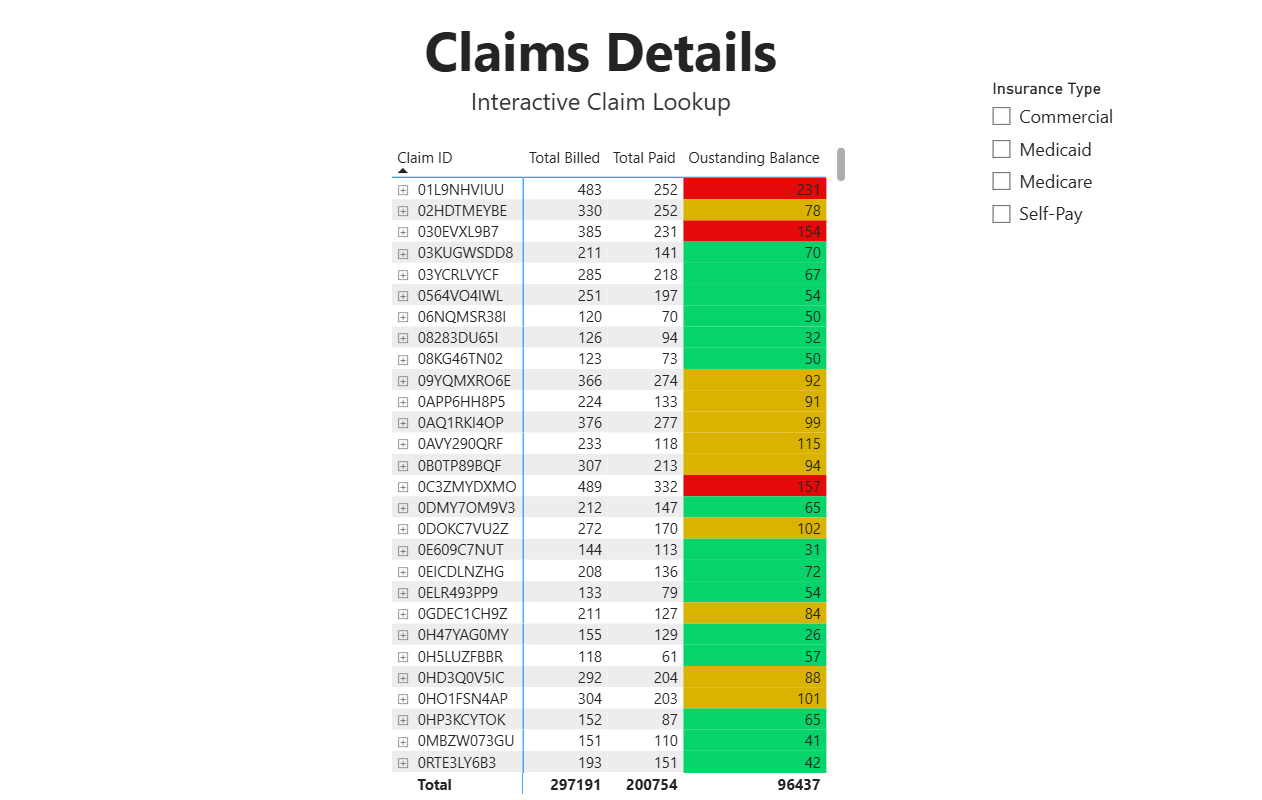

This screenshot's page, from the dashboard's own definition file:
{"tool":"powerbi","page":{"name":"Claims Details","canvas":[1280,720],"ordinal":1},"visuals":[{"type":"pivotTable","fields":{"Rows":["claim_data.Claim ID","claim_data.Insurance Type","claim_data.Claim Status"],"Values":["claim_data.Total Billed","claim_data.Total Paid","claim_data.Oustanding Balance"]},"box":[448.8,129.7,417.3,589.8],"z":0},{"type":"slicer","fields":{"Values":["claim_data.Insurance Type"]},"box":[978.9,69.9,207.5,163.5],"z":1000},{"type":"actionButton","box":[0,0,100,40],"z":2000},{"type":"textbox","box":[433.1,10.1,415,119.5],"z":3000}]}

Visuals, with their boxes on the page's 1280x720 design canvas (x1, y1, x2, y2). These are canvas units, not pixel positions in the 1262x800 screenshot, which may show the page scaled, cropped or inside an application window:
pivotTable - claim_data.Claim ID x claim_data.Insurance Type: 449/130/866/720
slicer - claim_data.Insurance Type: 979/70/1186/233
actionButton: 0/0/100/40
textbox: 433/10/848/130
